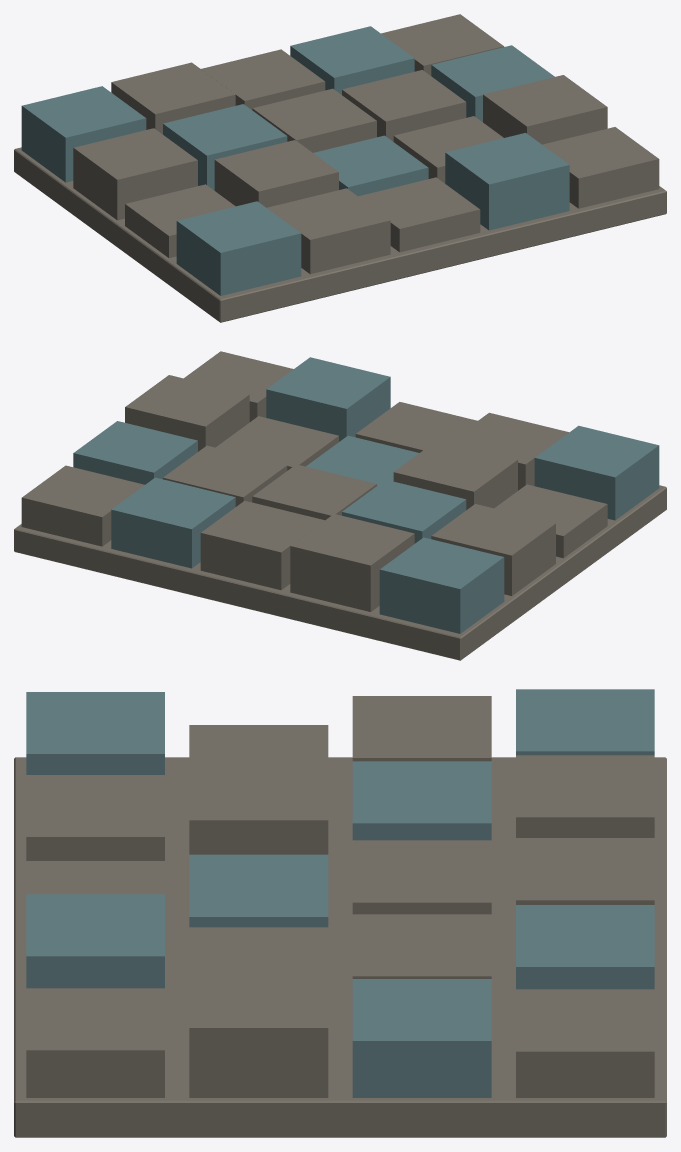
Rendered from scrap_infill_1m.glb.
3 views of the same model, one above another, from view 1: azimuth 30°, elevation 25°; view 2: azimuth 150°, elevation 25°; view 3: azimuth 270°, elevation 25° (orthographic). The views are drawn at different scales.
Parts seen in each view (by area): view 1: scrap_infill_1m; view 2: scrap_infill_1m; view 3: scrap_infill_1m.
Boxes of the visible parts, x1,y1,x2,y2 form: scrap_infill_1m: [14, 14, 666, 322]; scrap_infill_1m: [14, 351, 666, 660]; scrap_infill_1m: [14, 689, 666, 1137].
Size of the model in its own units: 1 by 0.1495 by 0.8.
